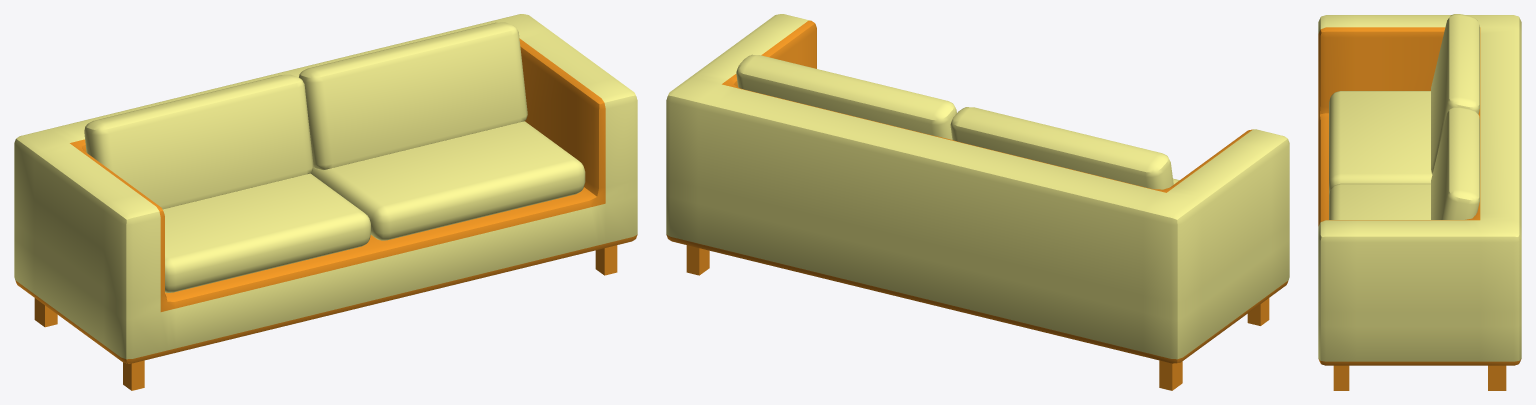
The model's file is sofa .fbx.
3 views of the same model, side by side, from view 1: azimuth 30°, elevation 25°; view 2: azimuth 150°, elevation 25°; view 3: azimuth 270°, elevation 25° (orthographic). The views are drawn at different scales.
Parts seen in each view (by area): view 1: sofa 2; view 2: sofa 2; view 3: sofa 2.
Boxes of the visible parts, box(x1,y1,x2,y2) form: sofa 2: box(14, 14, 637, 390); sofa 2: box(666, 14, 1289, 390); sofa 2: box(1318, 14, 1521, 390).
Size of the model in its own units: 284 by 109 by 109.
